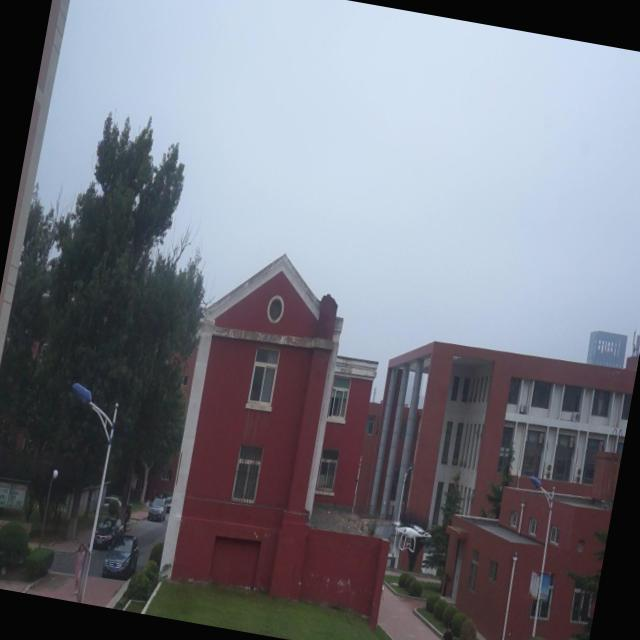drone: (388, 515, 434, 557)
